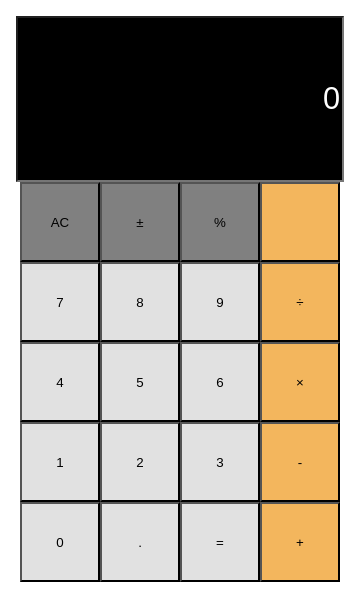
Test: General Calculator Test Functions › simple addition test
Click the button "2". click: {"x": 140, "y": 462}
box: [100, 422, 180, 502]
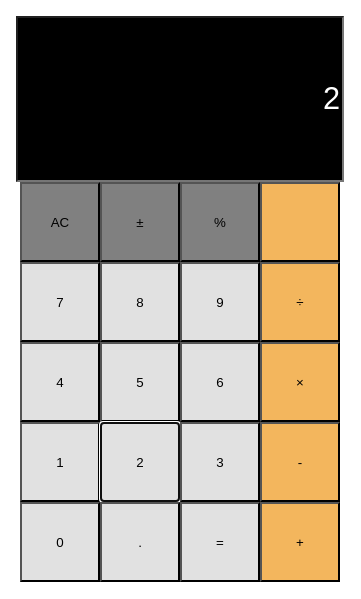
Click the button "+". click: {"x": 300, "y": 542}
box: [260, 502, 340, 582]
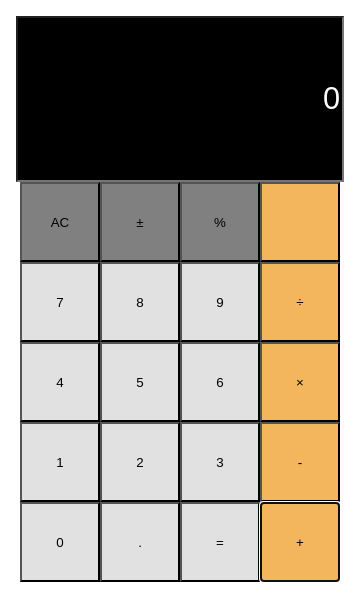
Click the button "6". click: {"x": 220, "y": 382}
box: [180, 342, 260, 422]
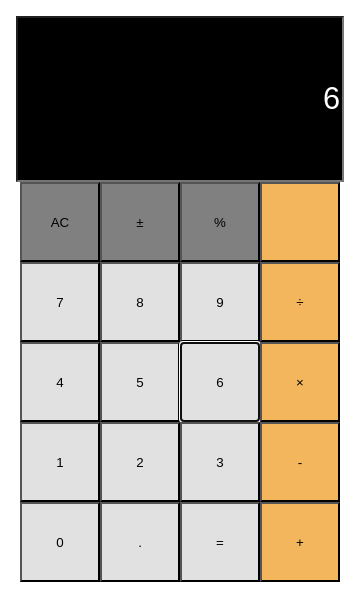
Click the button "=". click: {"x": 220, "y": 542}
box: [180, 502, 260, 582]
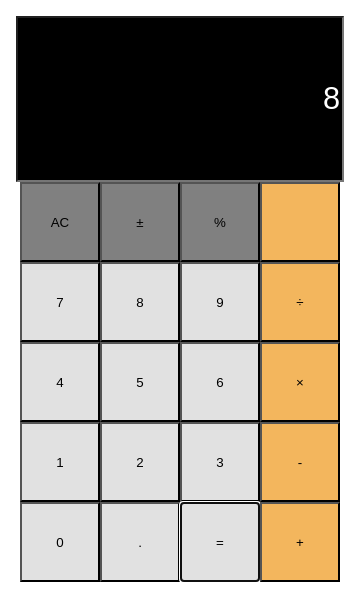
expect the field showing "0" holds "8": met, box [16, 16, 344, 182]
